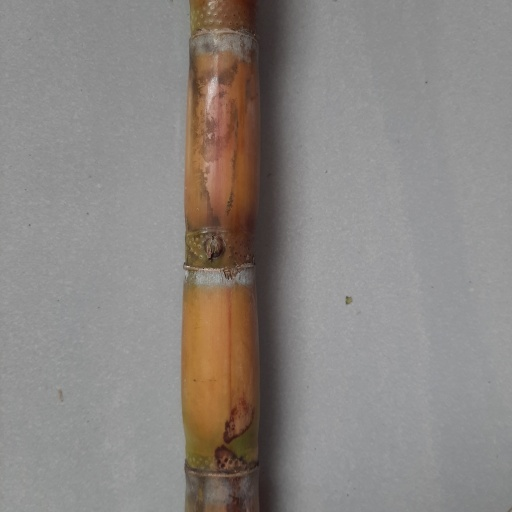Bud: (204, 232, 225, 266)
